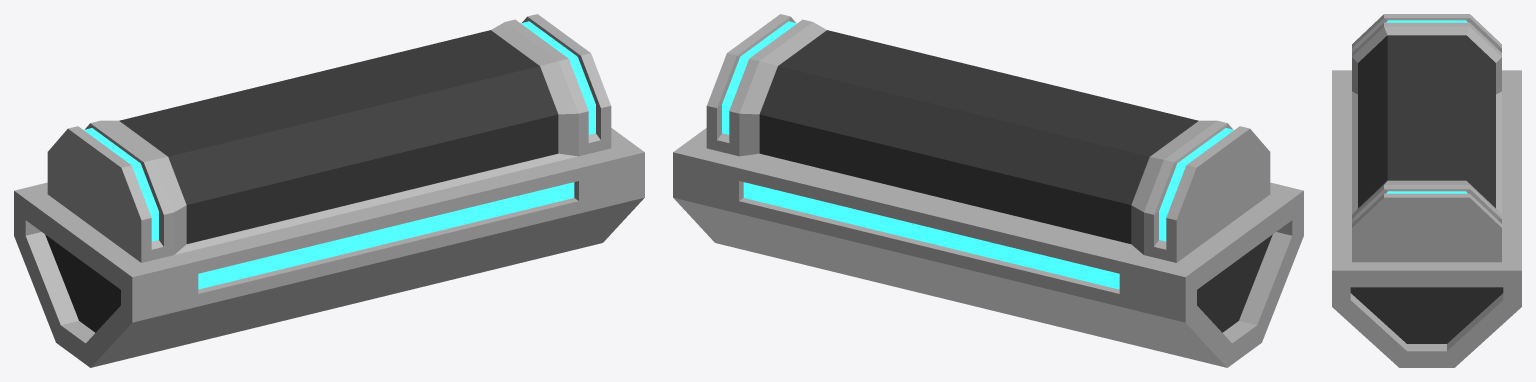
The model's file is Medical_Pod.fbx.
The picture shows the model from 3 angles, left to right: view 1: azimuth 30°, elevation 25°; view 2: azimuth 150°, elevation 25°; view 3: azimuth 270°, elevation 25°; orthographic projection. The views are drawn at different scales.
Parts seen in each view (by area): view 1: Medical Pod; view 2: Medical Pod; view 3: Medical Pod.
Boxes of the visible parts, left/top/right/bottom form: Medical Pod: left=14, top=14, right=644, bottom=367; Medical Pod: left=673, top=14, right=1303, bottom=367; Medical Pod: left=1332, top=14, right=1521, bottom=367.
Bounding box in the file's own units: 5 × 1.88 × 2.
